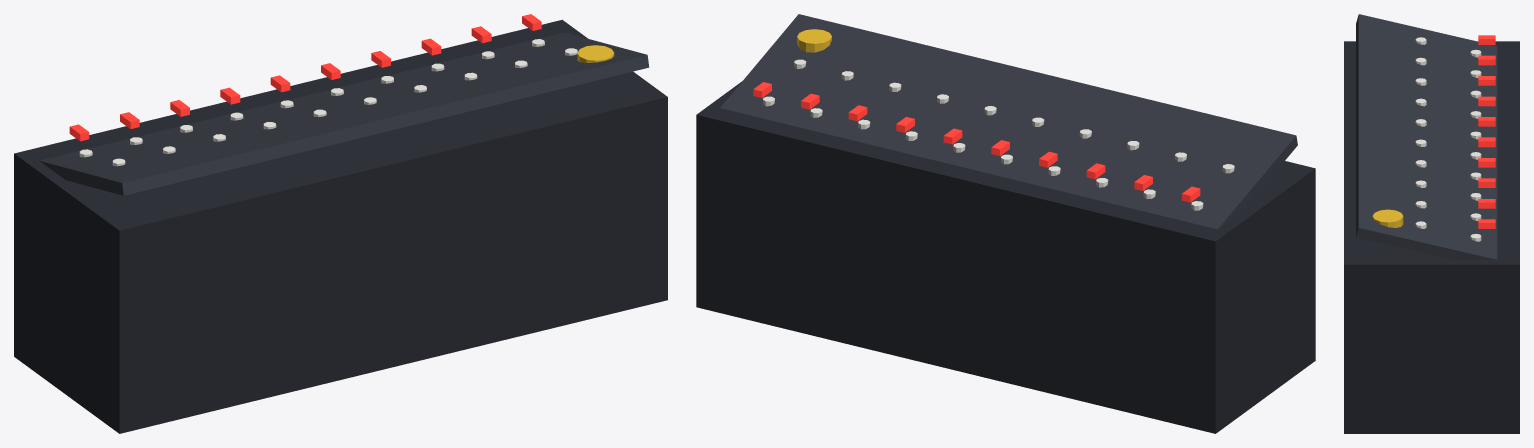
File: sound_console.glb
3 renders of one model, left to right at view 1: azimuth 30°, elevation 25°; view 2: azimuth 150°, elevation 25°; view 3: azimuth 270°, elevation 25°, orthographic. The views are drawn at different scales.
Visible parts, largest first — view 1: desk_console_body, panel_console_panel, fader_console_red, knob_console_knob; view 2: desk_console_body, panel_console_panel, fader_console_red, knob_console_knob, volume_console_volume; view 3: desk_console_body, panel_console_panel, fader_console_red, knob_console_knob, volume_console_volume.
Boxes of the visible parts, x1,y1,x2,y2 form: desk_console_body: [14, 19, 667, 433]; panel_console_panel: [39, 32, 649, 195]; fader_console_red: [69, 14, 541, 141]; knob_console_knob: [79, 39, 577, 166]; desk_console_body: [696, 81, 1315, 433]; panel_console_panel: [720, 14, 1297, 229]; fader_console_red: [753, 82, 1200, 202]; knob_console_knob: [763, 59, 1234, 210]; volume_console_volume: [797, 29, 831, 52]; desk_console_body: [1344, 41, 1519, 433]; panel_console_panel: [1356, 14, 1497, 259]; fader_console_red: [1478, 35, 1495, 228]; knob_console_knob: [1415, 37, 1481, 241]; volume_console_volume: [1372, 209, 1403, 227].
Size of the model in its own units: 2.4 by 1.01 by 0.8.
